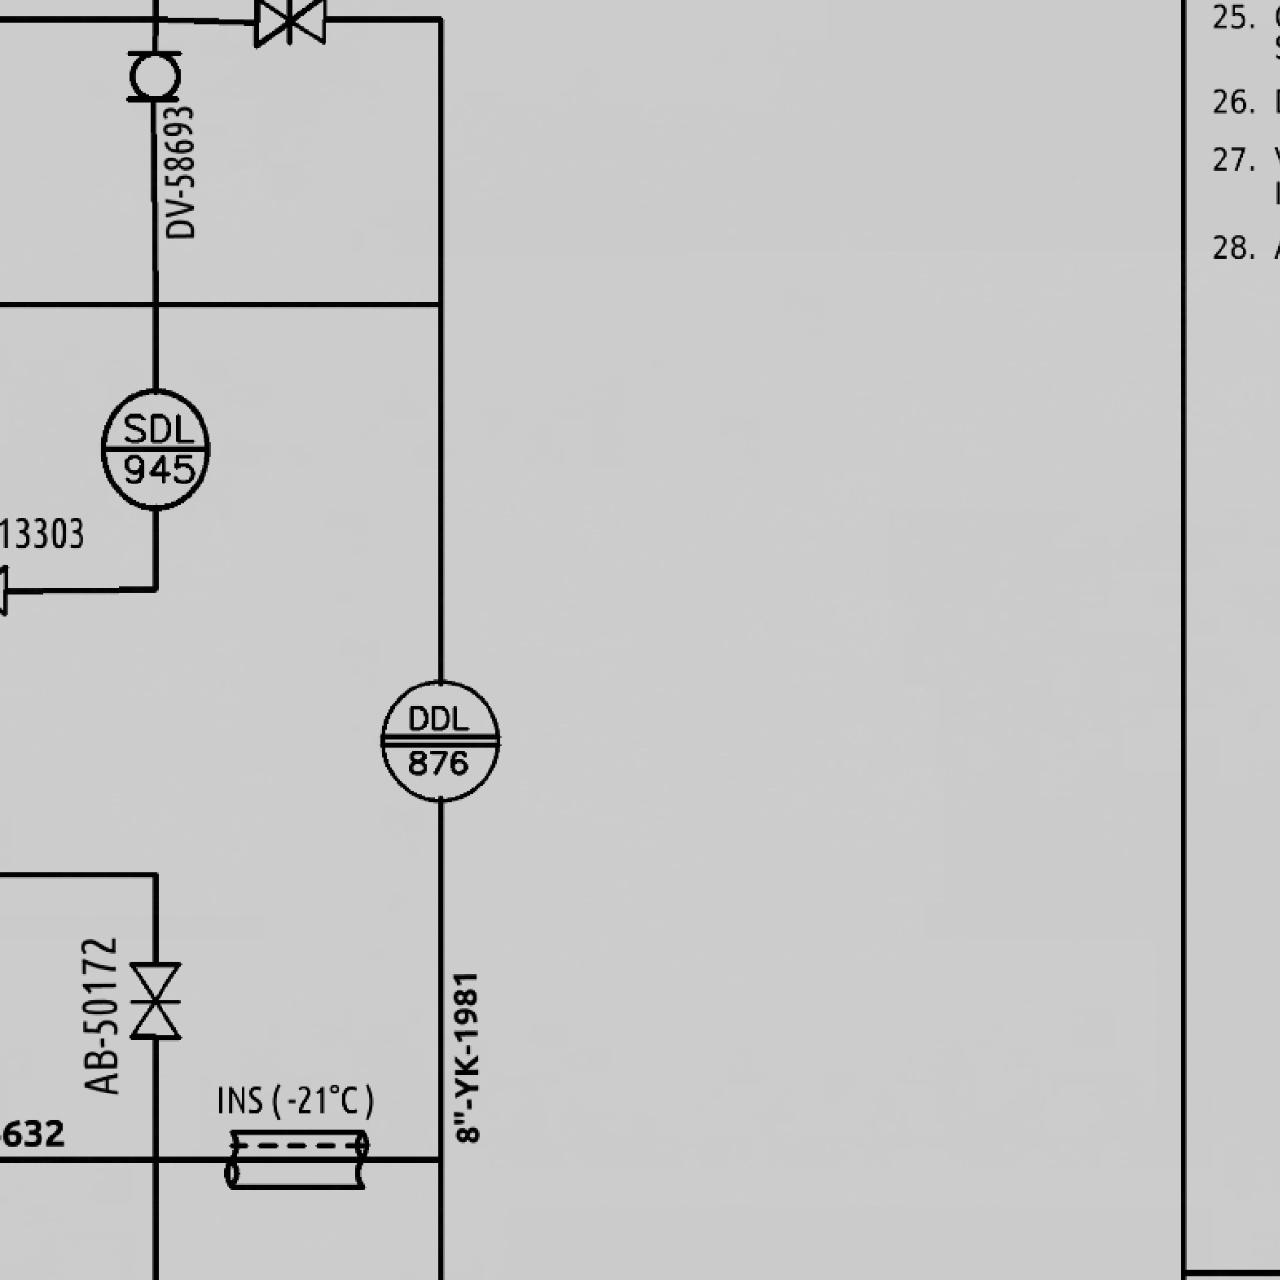Control-Panel: (373, 674, 505, 806)
